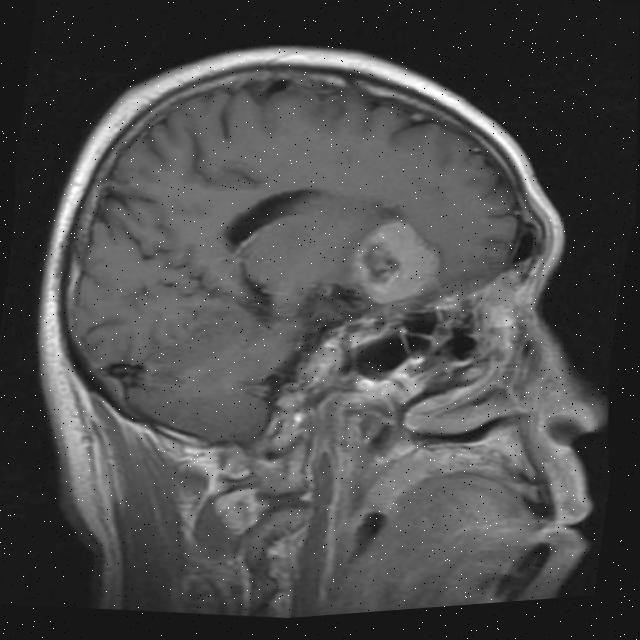Meningioma: (343, 208, 450, 317)
